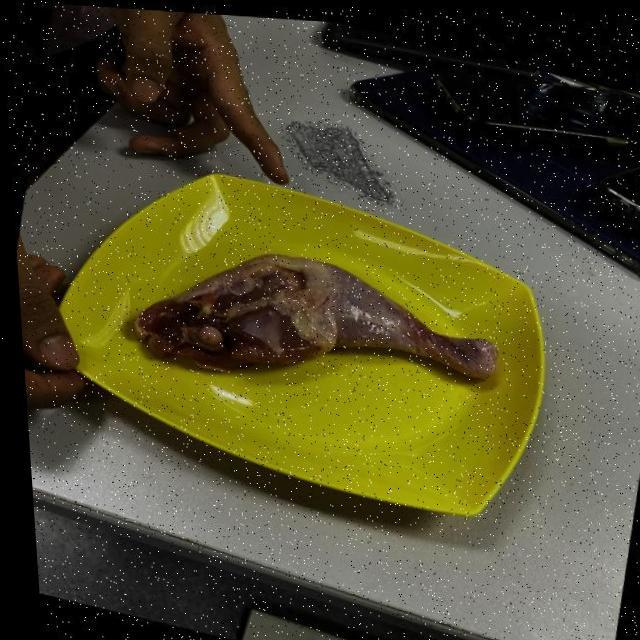quater: (120, 247, 496, 396)
